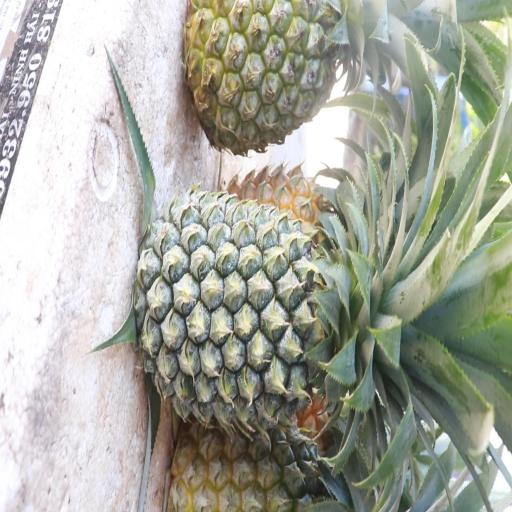------------------------------: (181, 0, 361, 153)
